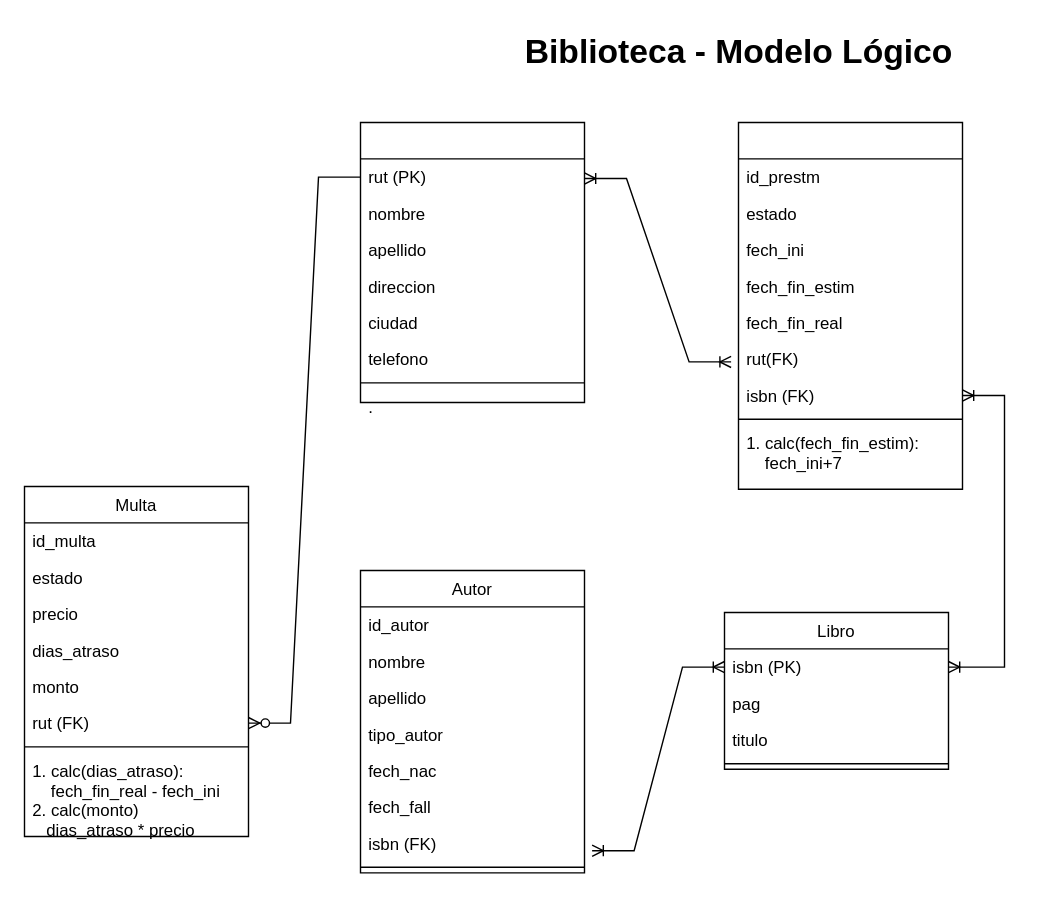
Image size: 1042x897. Some labels were removed from this diagram. The shapes that lost their labels are listed below. From the top down, each one's box as (x1, y1, x2, y2) in pixels, then its label:
(359, 121, 584, 402): Socio
(737, 121, 962, 489): Hist_prestm
